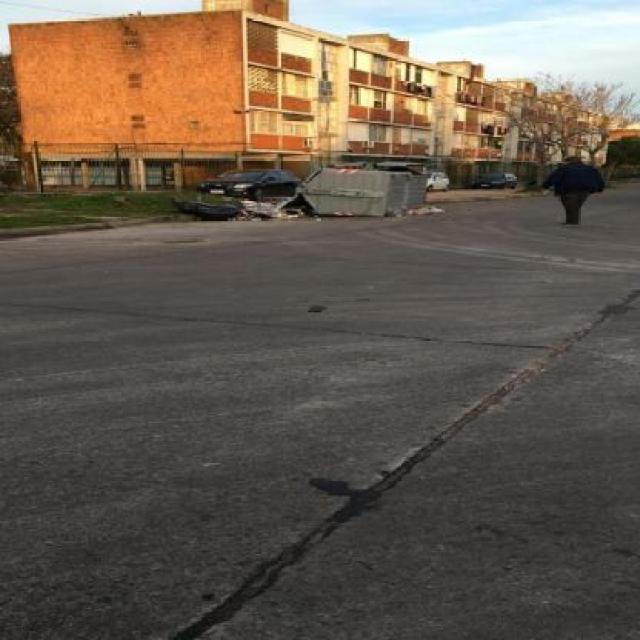garbage: (175, 197, 318, 223), (397, 202, 463, 220)
